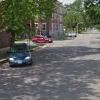Car: (5, 38, 39, 79)
